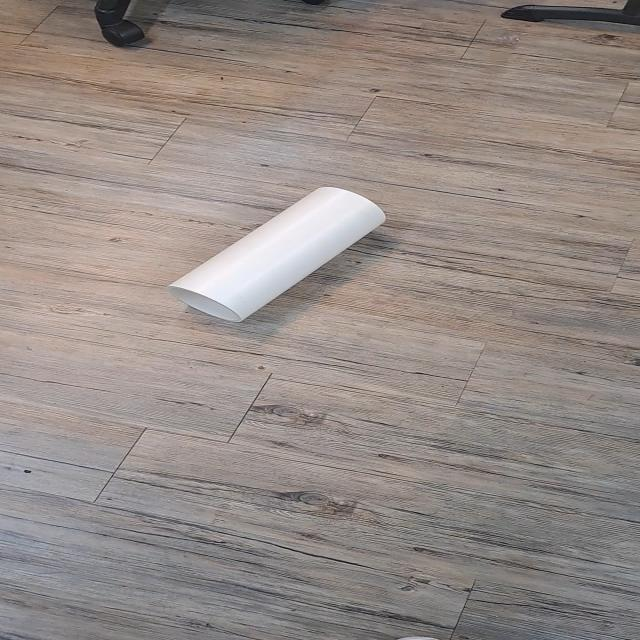CORAL: (154, 172, 404, 346)
